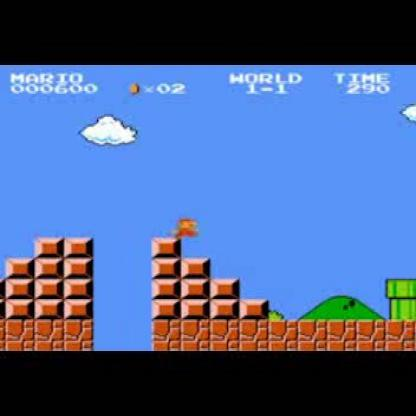Hoyo: (89, 320, 155, 352)
